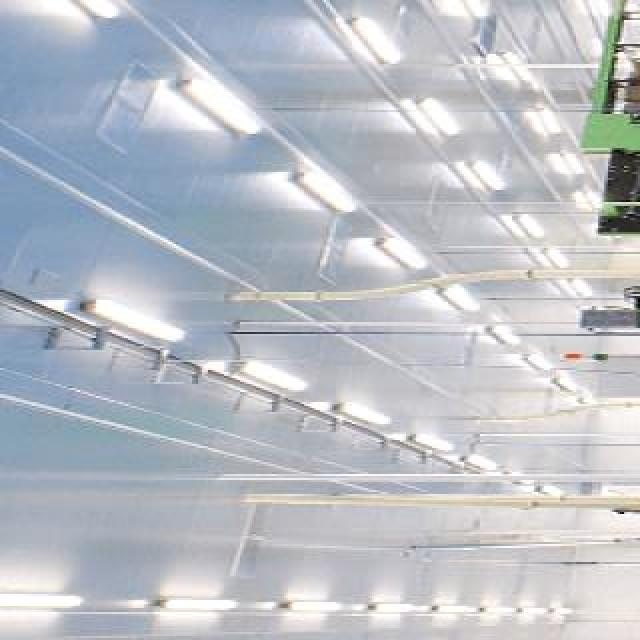fluorescent tube: (76, 280, 204, 358), (167, 62, 255, 145), (202, 349, 316, 395), (336, 9, 413, 67), (140, 589, 244, 626), (287, 169, 360, 218), (367, 229, 435, 275), (415, 85, 469, 140), (0, 586, 104, 614), (8, 0, 138, 20), (462, 153, 514, 202), (433, 271, 482, 314), (275, 591, 347, 620), (347, 598, 424, 624), (331, 394, 398, 423), (425, 595, 483, 627), (411, 418, 456, 458), (482, 315, 533, 349), (507, 205, 545, 247), (495, 600, 553, 625), (438, 0, 494, 18), (462, 602, 522, 618)
